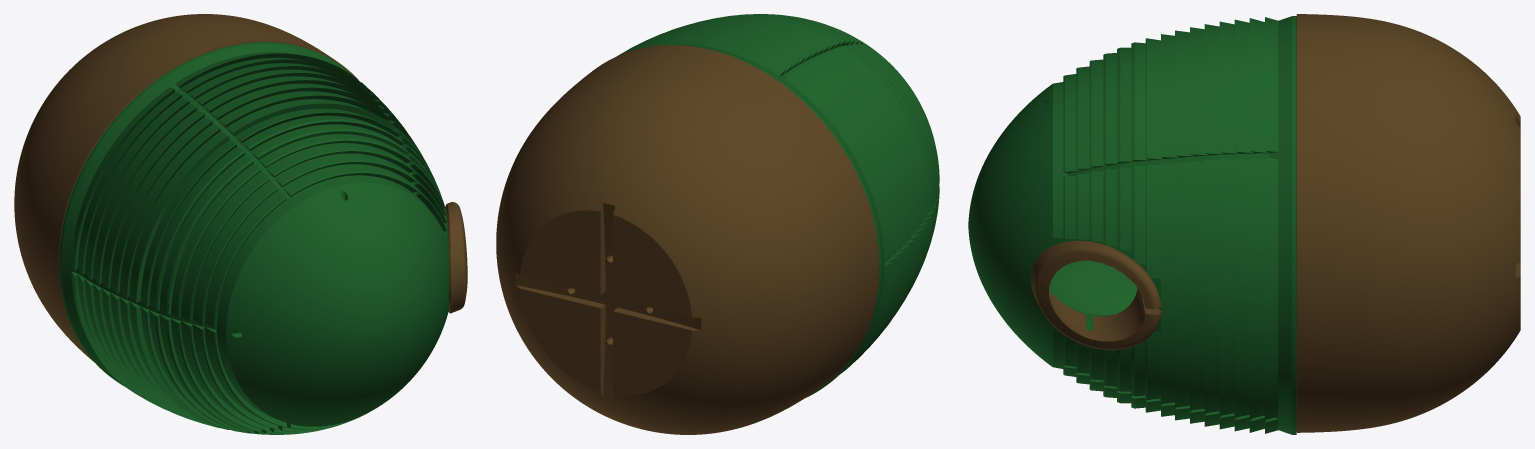
File: NestEggFBCR-v1.glb
The picture shows the model from 3 angles, left to right: view 1: azimuth 30°, elevation 25°; view 2: azimuth 150°, elevation 25°; view 3: azimuth 270°, elevation 25°; orthographic projection. The views are drawn at different scales.
Parts seen in each view (by area): view 1: mesh_0_1, mesh_0_2, mesh_0; view 2: mesh_0_2, mesh_0_1; view 3: mesh_0_1, mesh_0_2, mesh_0.
Part boxes in pixels (box(x1,y1,x2,y2)): mesh_0_1: box(59, 42, 449, 434); mesh_0_2: box(14, 14, 359, 362); mesh_0: box(445, 202, 467, 313); mesh_0_2: box(496, 45, 879, 434); mesh_0_1: box(617, 14, 939, 397); mesh_0_1: box(968, 16, 1296, 434); mesh_0_2: box(1296, 14, 1520, 432); mesh_0: box(1031, 240, 1161, 350).
Bounding box in the file's own units: 6.91 × 6.94 × 9.11.
